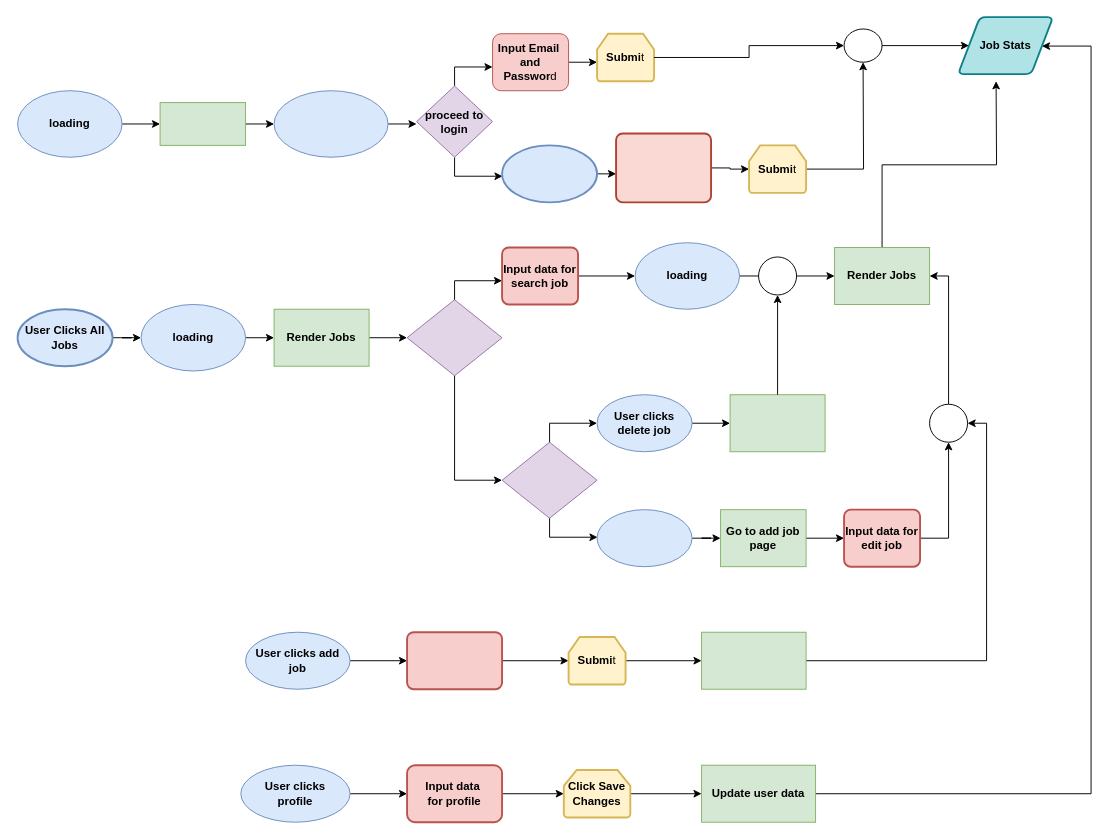
Image size: 1115x840. Some labels were removed from this diagram. Each missing label, with the centre of its shape:
Input data for job: point 454,660
input user name,email, password: point 663,167
Landing Page: point 202,123
Proceed to delete Job: point 549,479
Proceed to Search Job: point 454,337
Remove Job from page and DB: point 777,423
Show notificaion for job created: point 753,660
User Clicks Login/Register: point 330,123
user clicks register: point 549,173
User clicks to edit job: point 644,538
